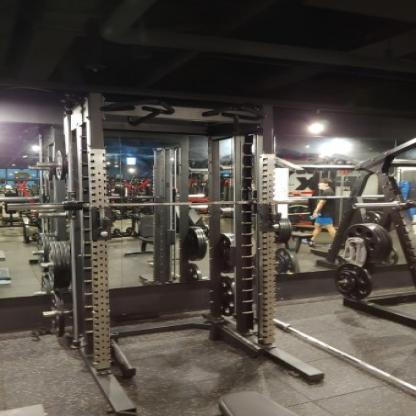smith machine: (44, 90, 325, 413)
